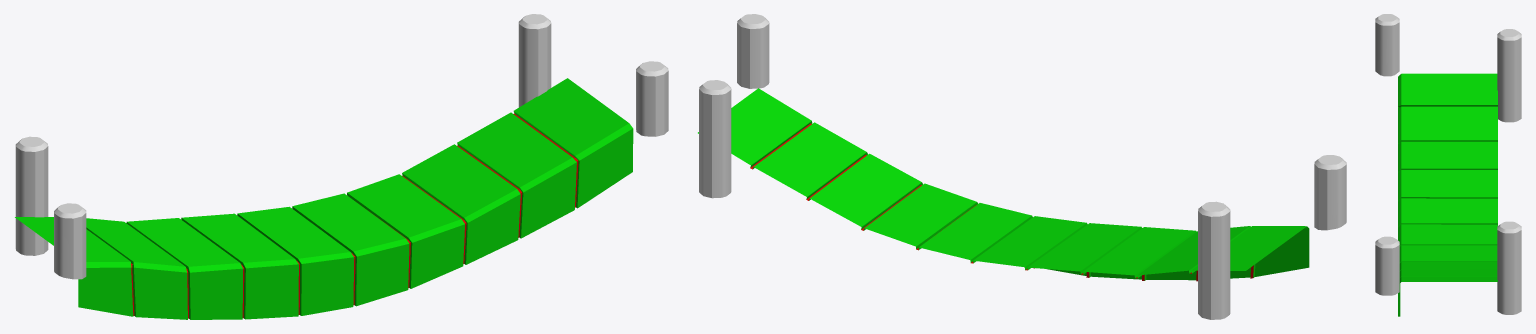
The model's file is Wooden Bridge2.fbx.
3 views of the same model, side by side, from view 1: azimuth 30°, elevation 25°; view 2: azimuth 150°, elevation 25°; view 3: azimuth 270°, elevation 25° (orthographic). The views are drawn at different scales.
Parts seen in each view (by area): view 1: Wooden_Bridge, Wooden_Bridge_Beams_2; view 2: Wooden_Bridge, Wooden_Bridge_Beams_2; view 3: Wooden_Bridge, Wooden_Bridge_Beams_2.
Boxes of the visible parts, box(x1,y1,x2,y2) form: Wooden_Bridge: box(15, 78, 633, 319); Wooden_Bridge_Beams_2: box(15, 14, 668, 279); Wooden_Bridge: box(698, 88, 1309, 281); Wooden_Bridge_Beams_2: box(699, 14, 1346, 319); Wooden_Bridge: box(1398, 73, 1497, 316); Wooden_Bridge_Beams_2: box(1375, 14, 1521, 314).
Bounding box in the file's own units: 11.01 × 3.01 × 2.92.
